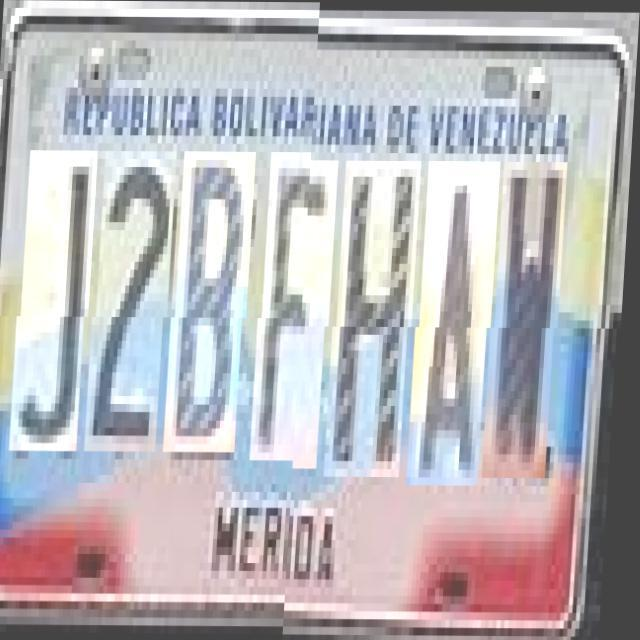2: (93, 159, 178, 459)
A: (416, 161, 502, 485)
B: (172, 160, 257, 460)
F: (259, 160, 340, 468)
H: (334, 160, 424, 477)
J: (18, 158, 99, 458)
W: (492, 161, 570, 477)
